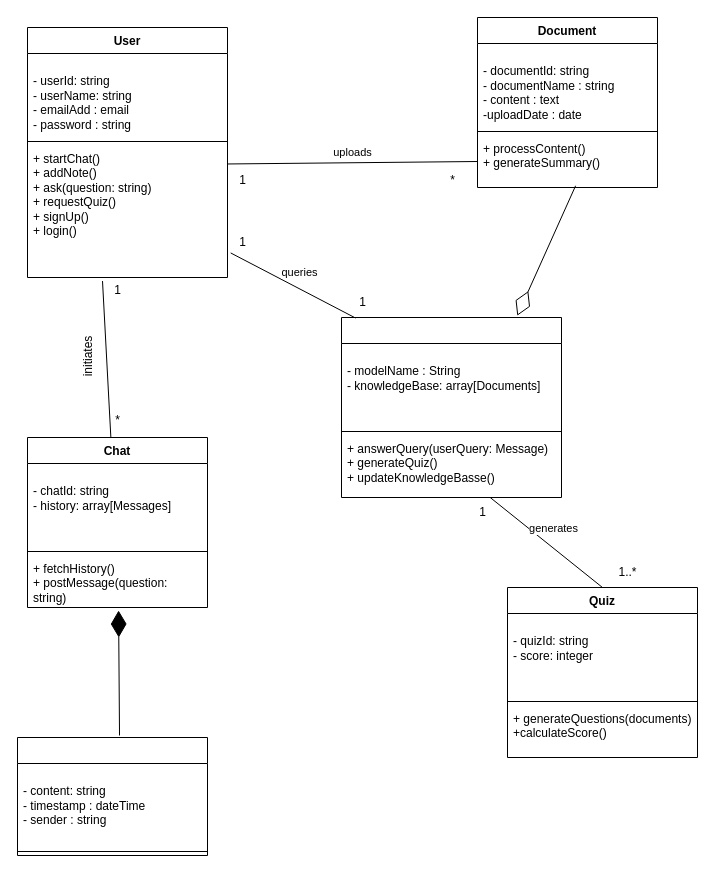
Image size: 715x873. Some labels were removed from this diagram. The shapes that lost their labels are listed below. From the top down, each one's box as (x1, y1, x2, y2) in pixels, then its label:
(340, 316, 562, 498): AiModel
(16, 736, 208, 856): Message
